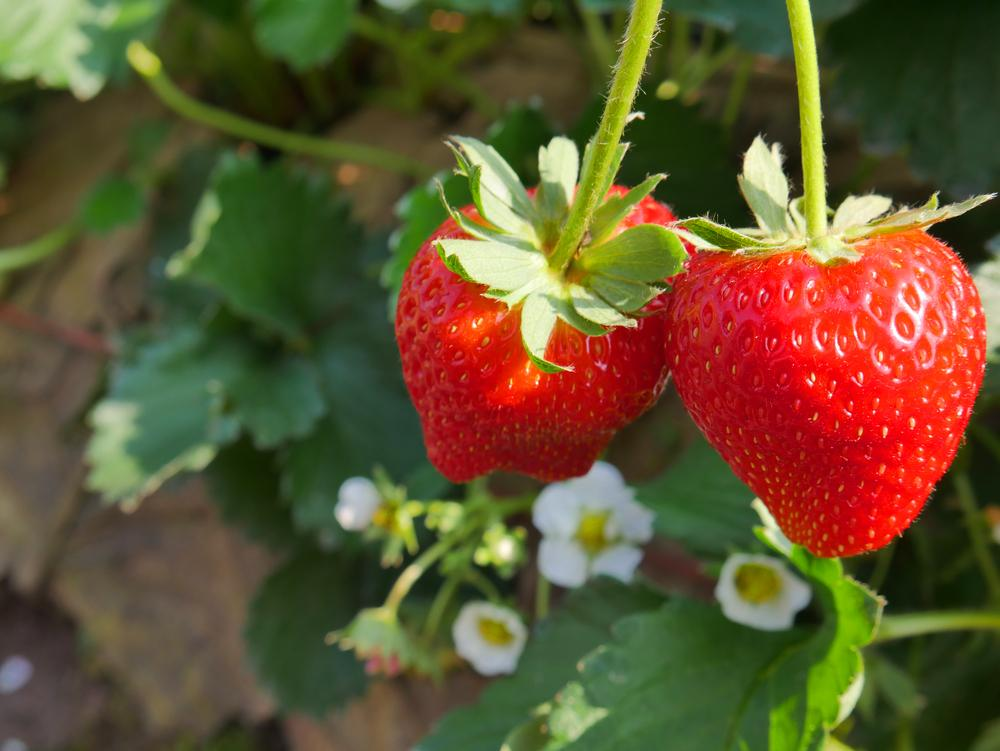strawberry: (657, 132, 1000, 569), (389, 133, 677, 514)
